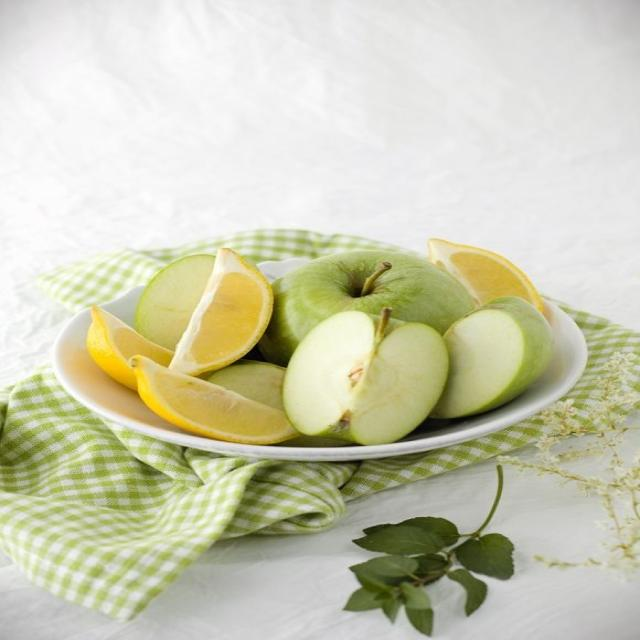apple: (260, 251, 474, 365), (283, 308, 447, 445), (433, 296, 552, 417), (135, 255, 215, 350), (207, 360, 285, 410)
